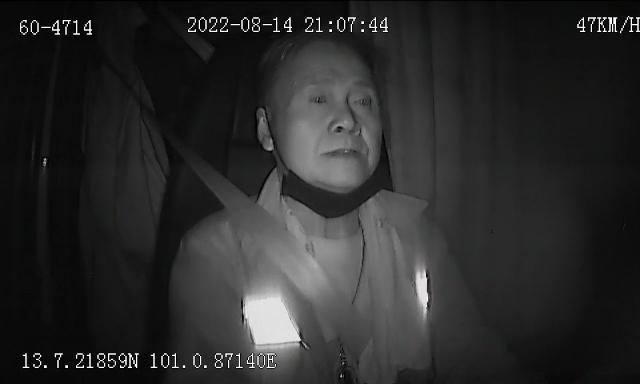SafeDriving: (346, 84, 378, 116), (303, 82, 336, 112)
Seatbelt: (175, 137, 403, 384)
